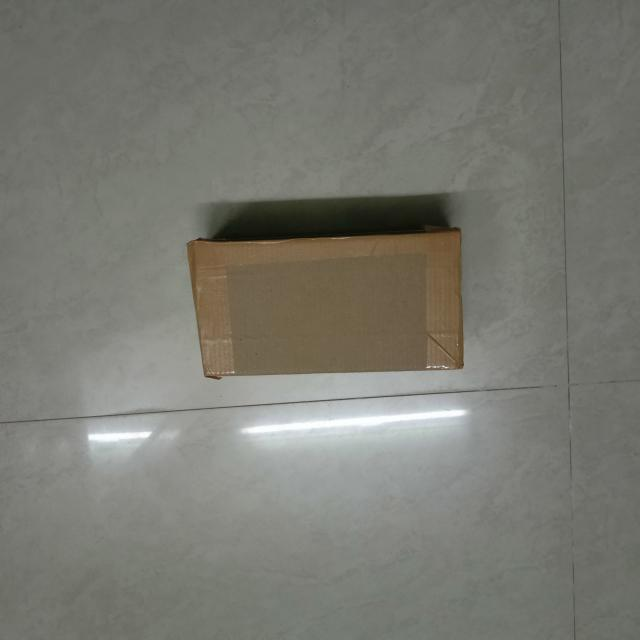box: (189, 232, 466, 379)
